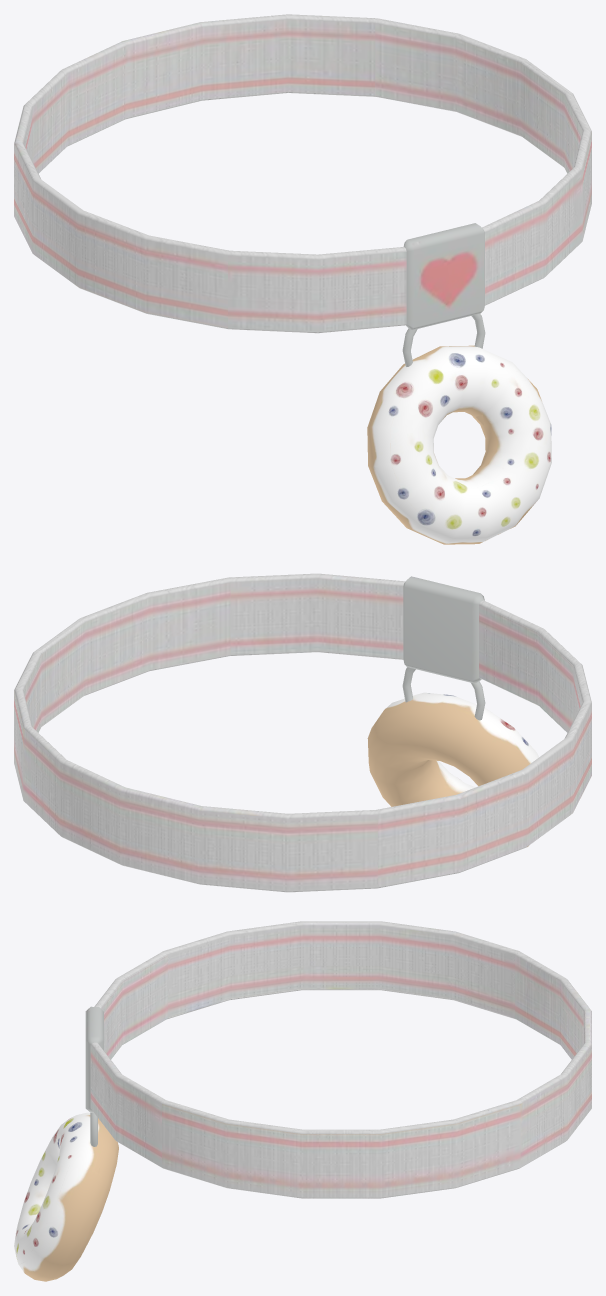
Rendered from donut-necklace-compressed.glb.
The picture shows the model from 3 angles, top to bottom: view 1: azimuth 30°, elevation 25°; view 2: azimuth 150°, elevation 25°; view 3: azimuth 270°, elevation 25°; orthographic projection. The views are drawn at different scales.
Parts seen in each view (by area): view 1: SM_donutnecklace_M_donutnecklace_0; view 2: SM_donutnecklace_M_donutnecklace_0; view 3: SM_donutnecklace_M_donutnecklace_0.
Part boxes in pixels (<box>): SM_donutnecklace_M_donutnecklace_0: <box>14,14,591,544</box>; SM_donutnecklace_M_donutnecklace_0: <box>14,573,591,892</box>; SM_donutnecklace_M_donutnecklace_0: <box>14,921,591,1281</box>.
Bounding box in the file's own units: 0.3049 × 0.169 × 0.3516.
Materials: 1 (1 with a texture image).
